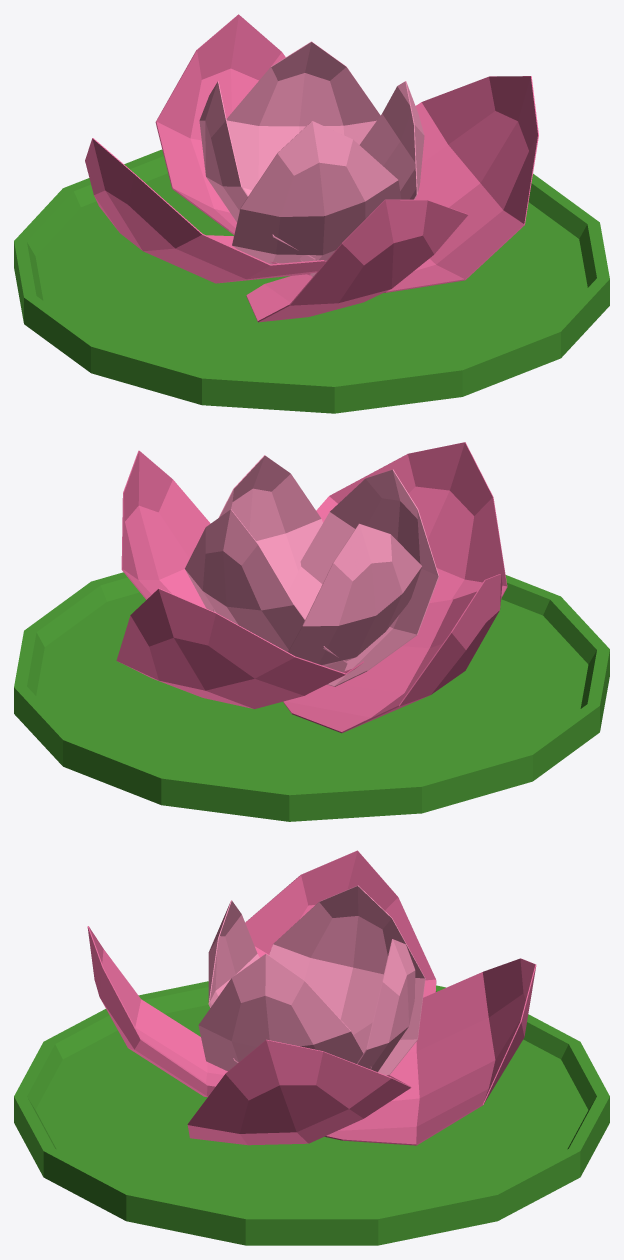
The model's file is Foliage_09.fbx.
3 views of the same model, one above another, from view 1: azimuth 30°, elevation 25°; view 2: azimuth 150°, elevation 25°; view 3: azimuth 270°, elevation 25° (orthographic).
Parts seen in each view (by area): view 1: Foliage_09; view 2: Foliage_09; view 3: Foliage_09.
Part boxes in pixels (<box>): Foliage_09: <box>14,14,609,413</box>; Foliage_09: <box>14,442,609,821</box>; Foliage_09: <box>14,850,609,1245</box>.
Size of the model in its own units: 55.69 by 21.5 by 57.12.
